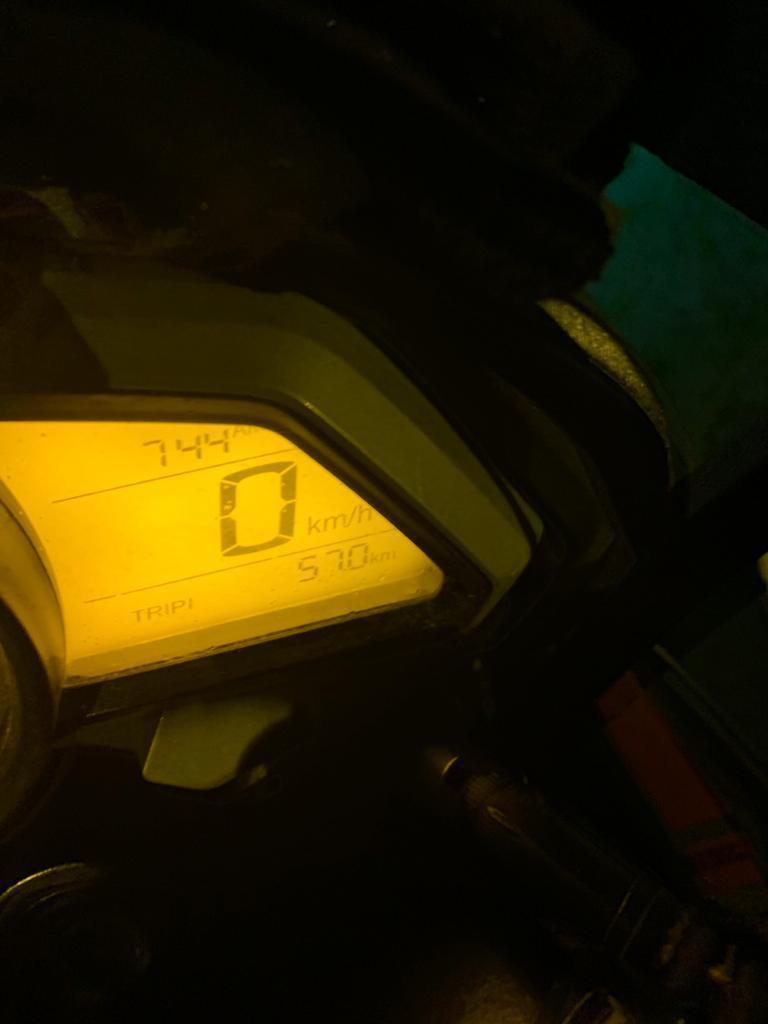,: (343, 566, 347, 574)
0: (348, 542, 368, 570)
1: (187, 593, 193, 613)
4: (174, 432, 202, 460), (204, 428, 230, 453)
5: (297, 554, 321, 583)
7: (141, 436, 169, 469), (325, 547, 343, 570)
X: (323, 514, 345, 532), (357, 502, 372, 524), (307, 515, 322, 536), (345, 505, 358, 527), (170, 599, 186, 615), (147, 604, 162, 619), (130, 607, 145, 622), (232, 423, 247, 437), (380, 549, 396, 561), (370, 550, 379, 564), (163, 601, 170, 617)
odometer: (0, 394, 451, 693)
